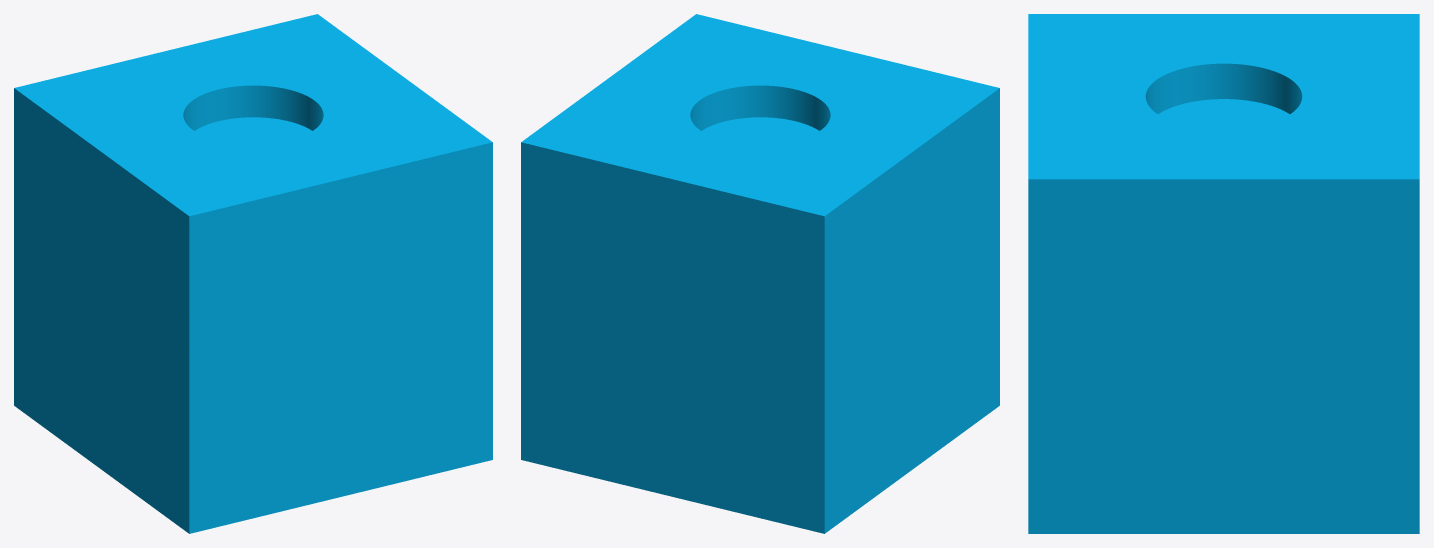
File: gt_Z_ust_yuzey_cep.gltf
3 renders of one model, left to right at view 1: azimuth 30°, elevation 25°; view 2: azimuth 150°, elevation 25°; view 3: azimuth 270°, elevation 25°, orthographic. The views are drawn at different scales.
Visible parts, largest first — view 1: Gövde; view 2: Gövde; view 3: Gövde.
Part boxes in pixels (bbox=[...]): Gövde: bbox=[14, 14, 492, 533]; Gövde: bbox=[521, 14, 999, 533]; Gövde: bbox=[1028, 14, 1419, 533].
Bounding box in the file's own units: 0.01 × 0.01 × 0.01.
